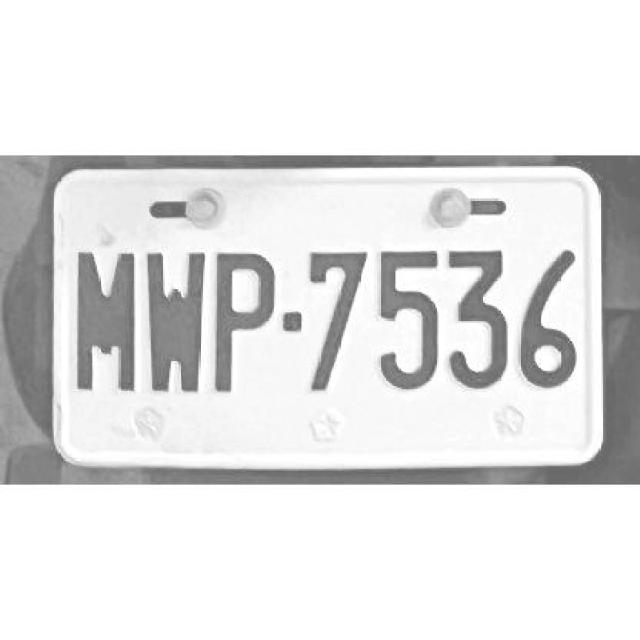-: (280, 310, 300, 336)
3: (443, 243, 512, 392)
5: (371, 243, 442, 392)
6: (512, 242, 580, 391)
7: (303, 243, 366, 397)
M: (72, 248, 140, 395)
P: (211, 246, 277, 392)
W: (143, 249, 206, 394)
